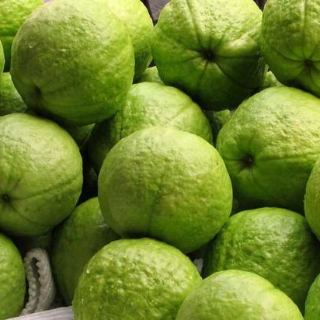oi: (99, 127, 231, 251), (12, 2, 133, 124)
